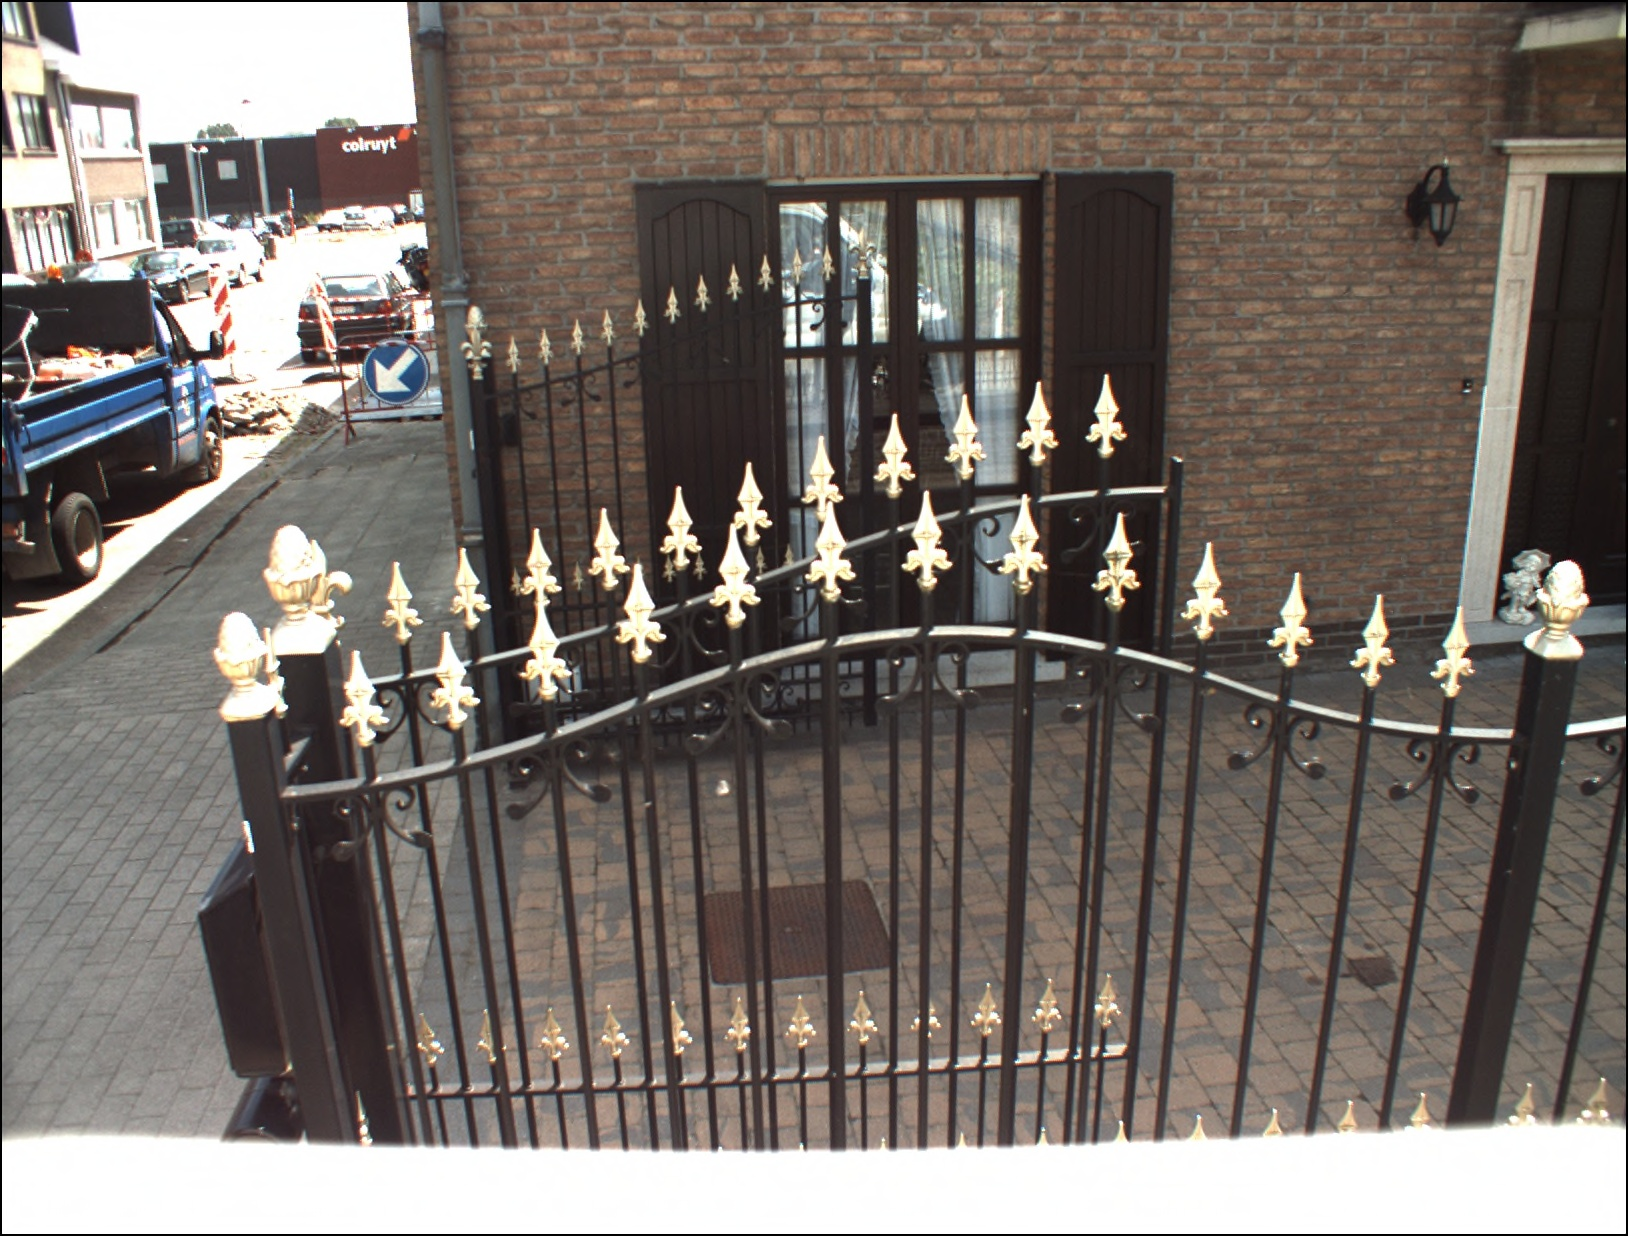passleft: (364, 341, 428, 405)
